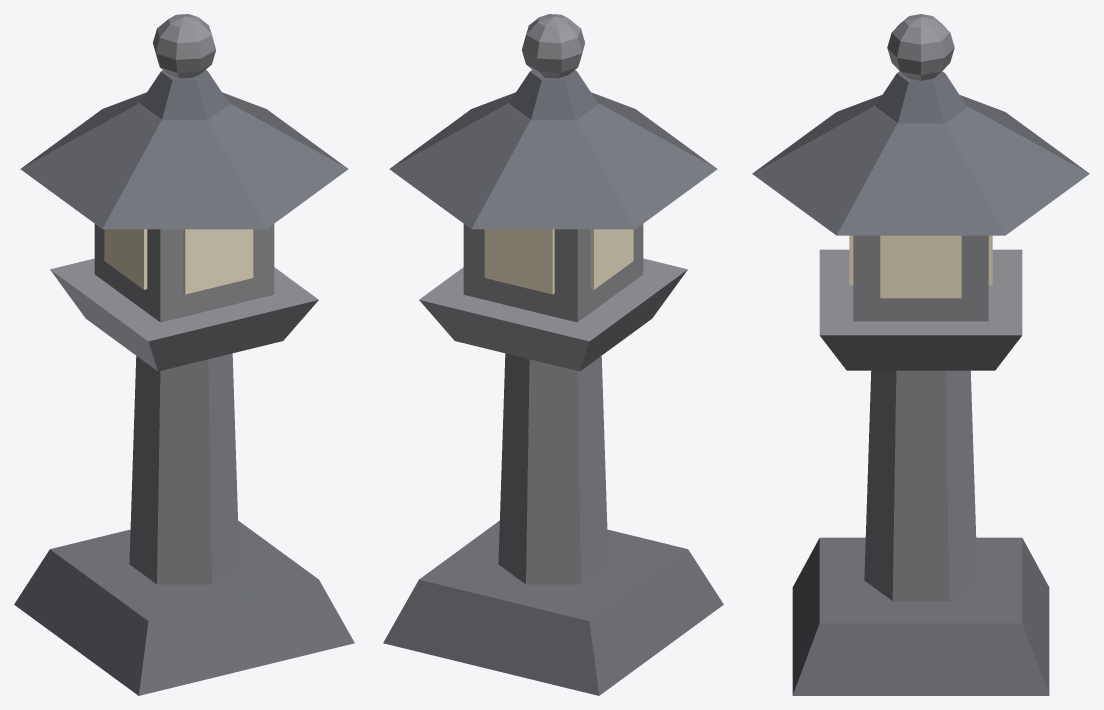
Rendered from StoneLantern.fbx.
3 renders of one model, left to right at view 1: azimuth 30°, elevation 25°; view 2: azimuth 150°, elevation 25°; view 3: azimuth 270°, elevation 25°, orthographic. The views are drawn at different scales.
Parts seen in each view (by area): view 1: StoneLantern_stone_dk, StoneLantern_stone, StoneLantern_paper; view 2: StoneLantern_stone_dk, StoneLantern_stone, StoneLantern_paper; view 3: StoneLantern_stone_dk, StoneLantern_stone, StoneLantern_paper.
Boxes of the visible parts, x1,y1,x2,y2 form: StoneLantern_stone_dk: (14, 69, 354, 695); StoneLantern_stone: (50, 14, 318, 584); StoneLantern_paper: (104, 229, 253, 294); StoneLantern_stone_dk: (383, 69, 723, 695); StoneLantern_stone: (419, 14, 687, 584); StoneLantern_paper: (484, 229, 633, 294); StoneLantern_stone_dk: (752, 71, 1089, 695); StoneLantern_stone: (819, 14, 1022, 601); StoneLantern_paper: (849, 235, 992, 298).
Size of the model in its own units: 2.17 by 5.1 by 2.5.
